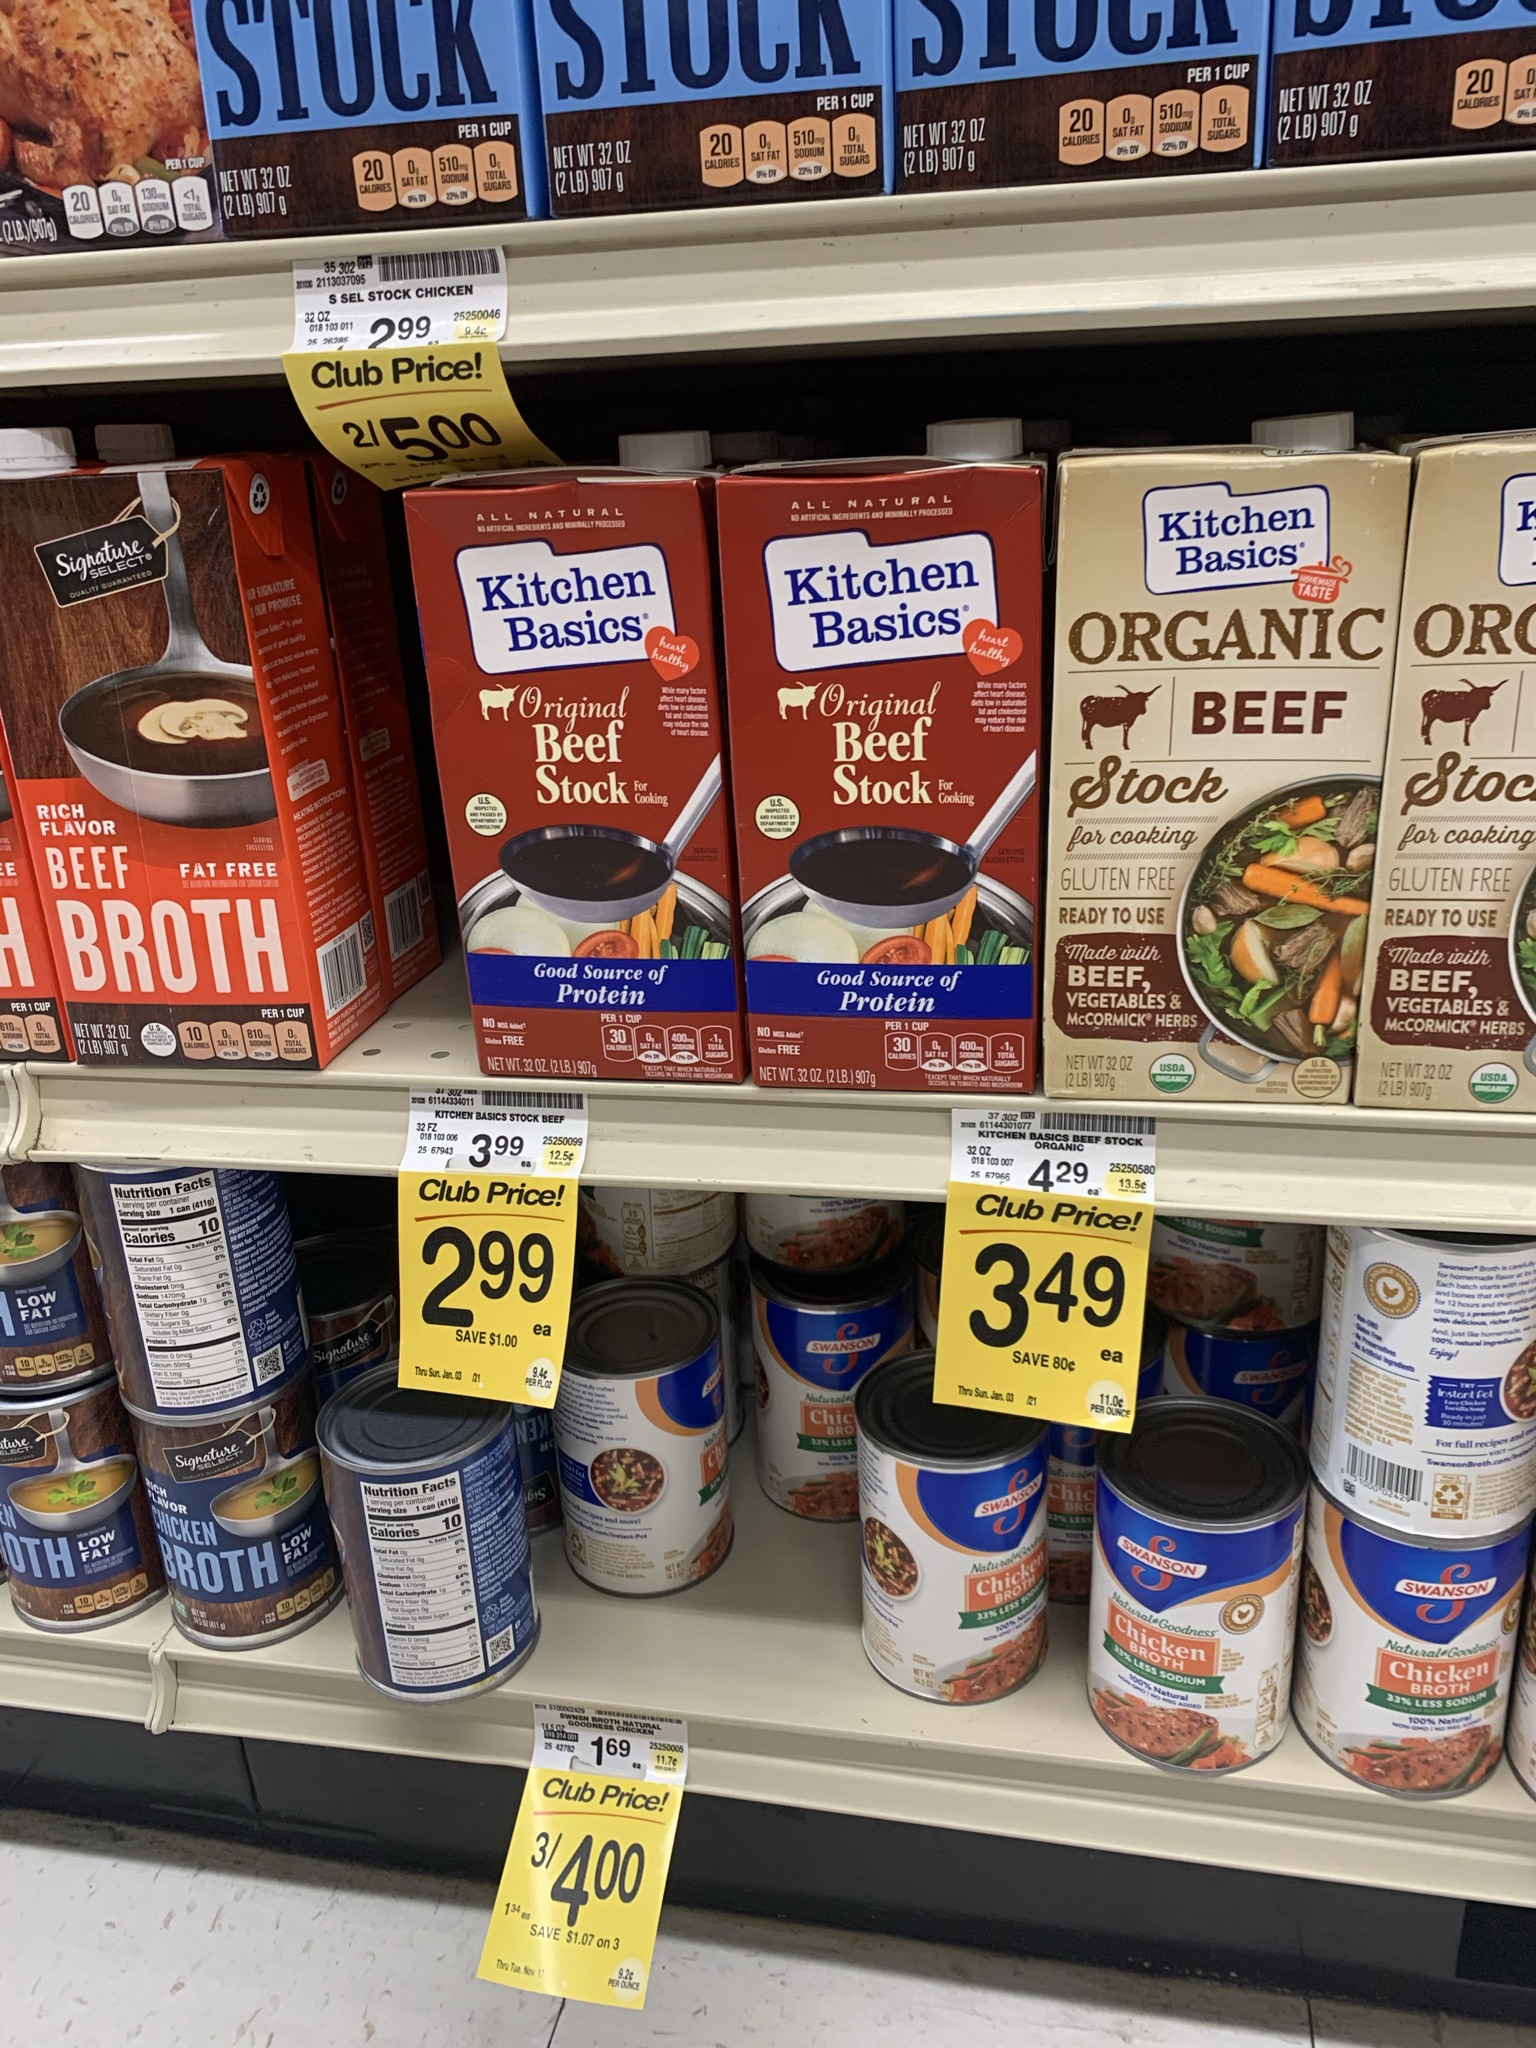box: (1079, 476, 1342, 1106), (757, 493, 1016, 1093), (470, 498, 733, 1077), (74, 484, 240, 1072)
can: (1107, 1458, 1297, 1737), (1346, 1238, 1533, 1514), (858, 1419, 1034, 1680), (1328, 1540, 1504, 1780), (353, 1435, 531, 1655), (118, 1180, 284, 1398), (574, 1317, 724, 1551), (152, 1434, 319, 1605), (18, 1413, 110, 1622)
